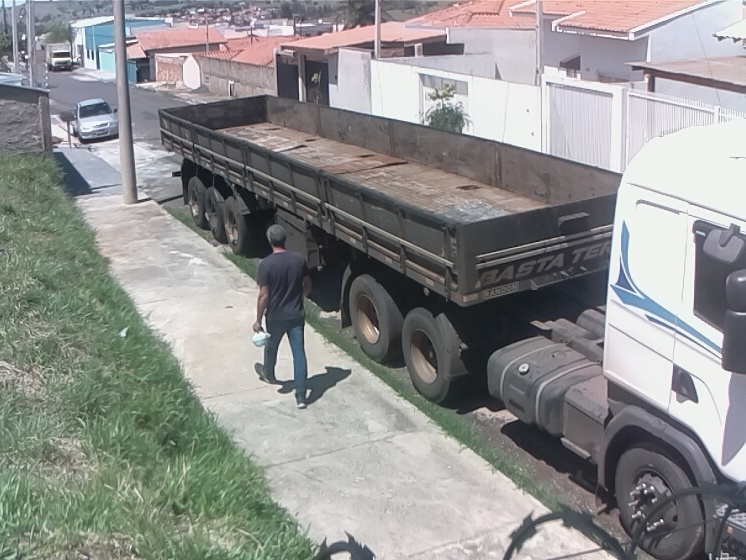person: (254, 223, 313, 411)
